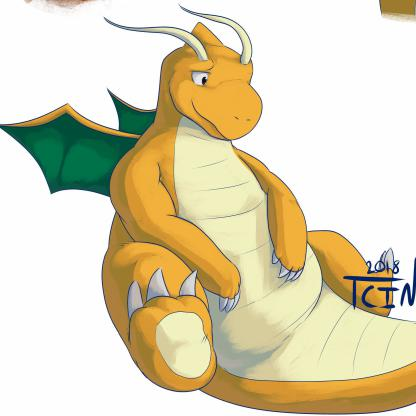Dragonite: (24, 24, 416, 416)
